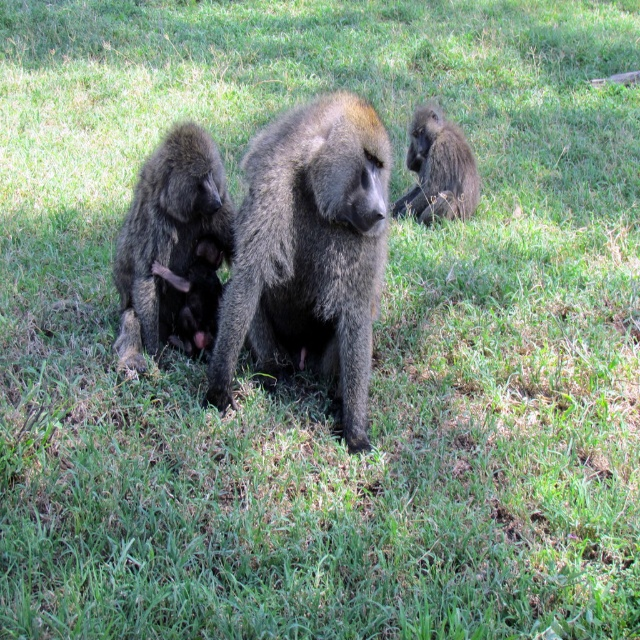Monkey: (193, 102, 397, 469), (108, 121, 238, 369), (394, 103, 480, 229)
